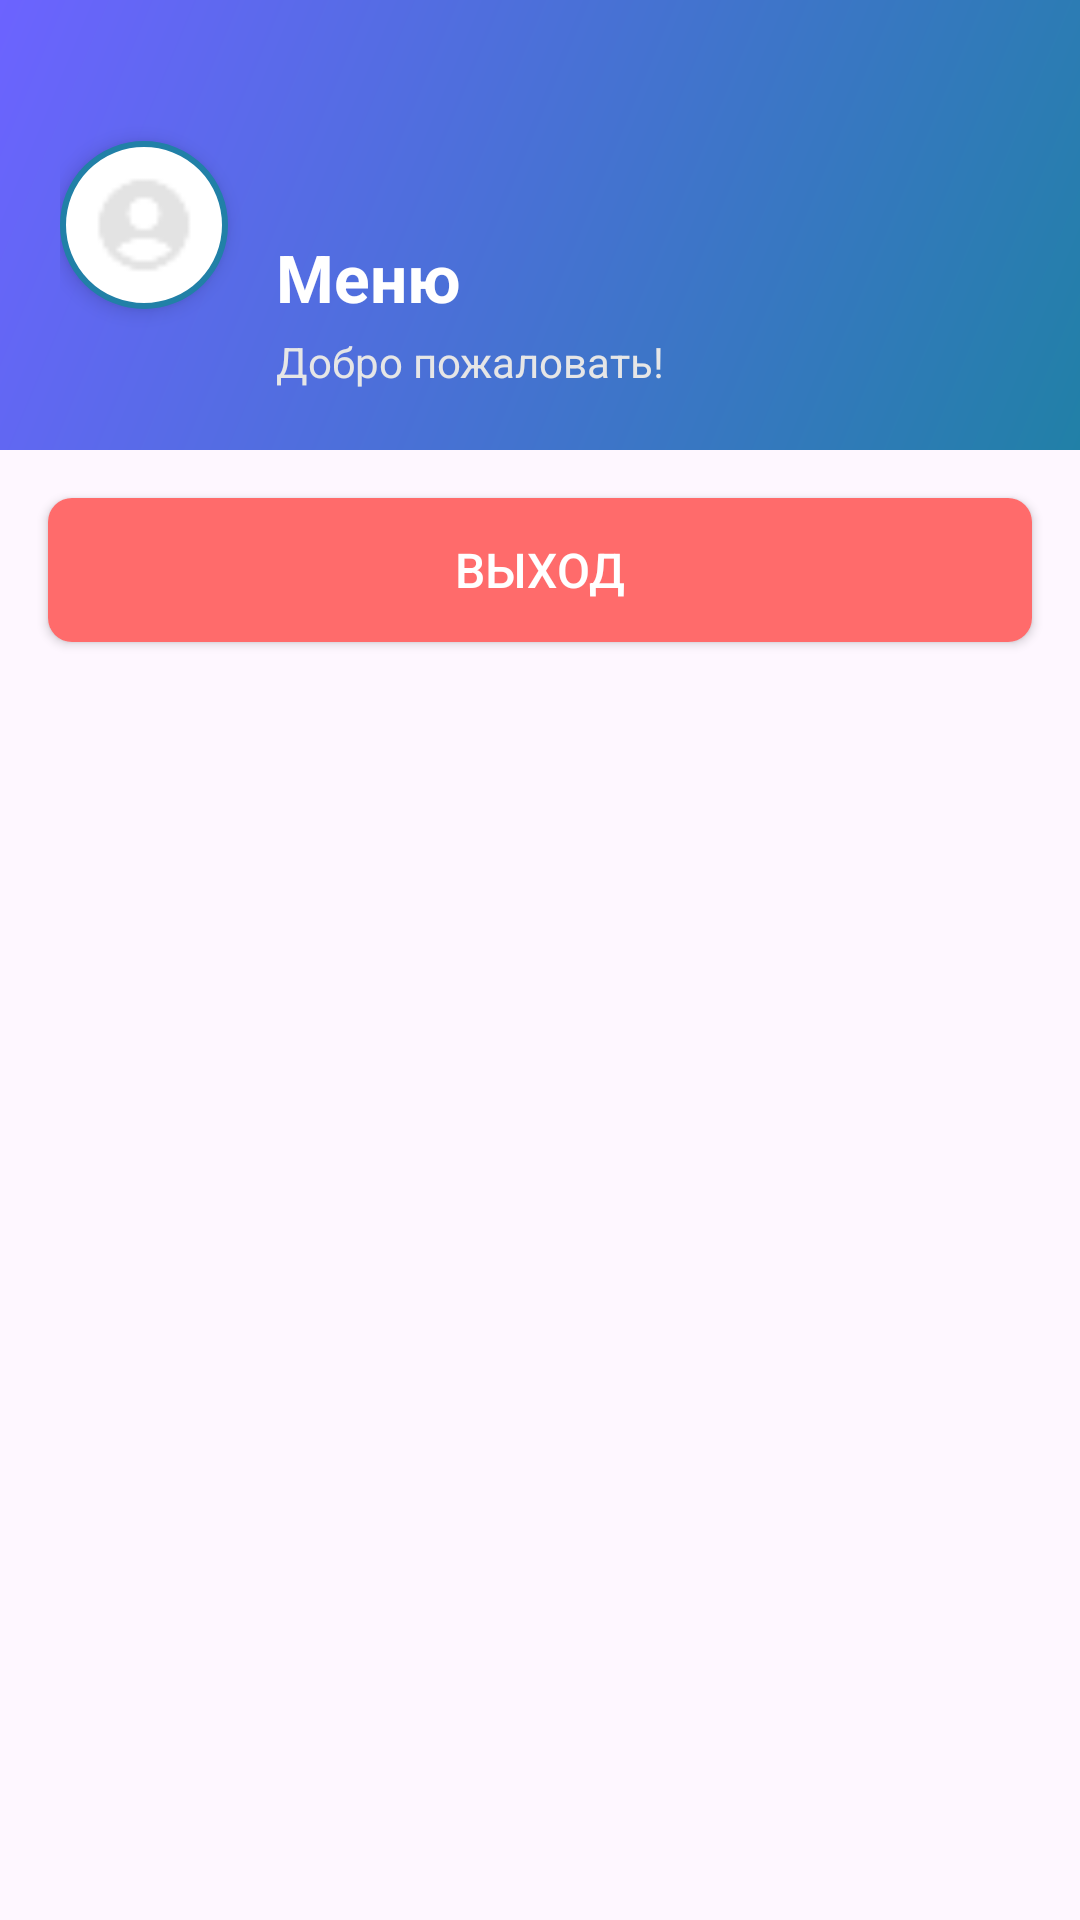

Where icons sit on this 1080*1920 app screen, as [x1=x1, y1=y1, x2=x2, y2=y2]:
user: [x1=60, y1=141, x2=228, y2=309]
